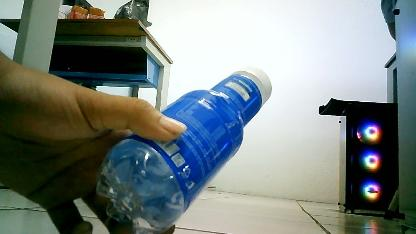Plastic Bottle: (82, 52, 280, 234)
